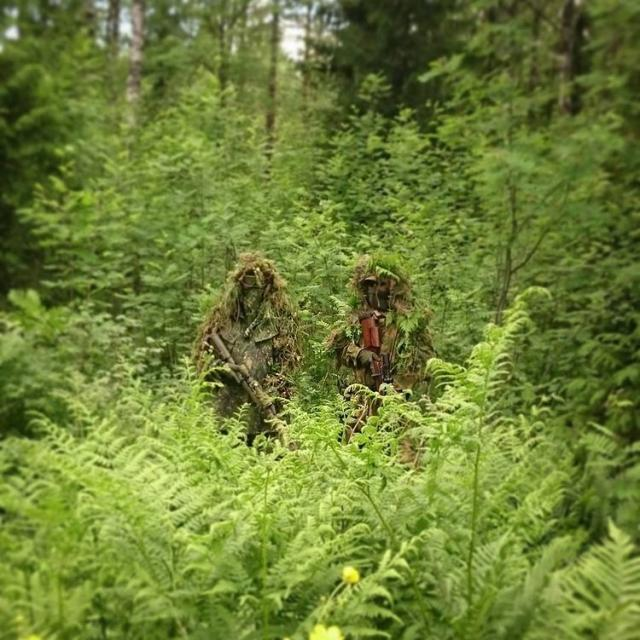Camouflage: (318, 254, 437, 441), (193, 254, 308, 447)
